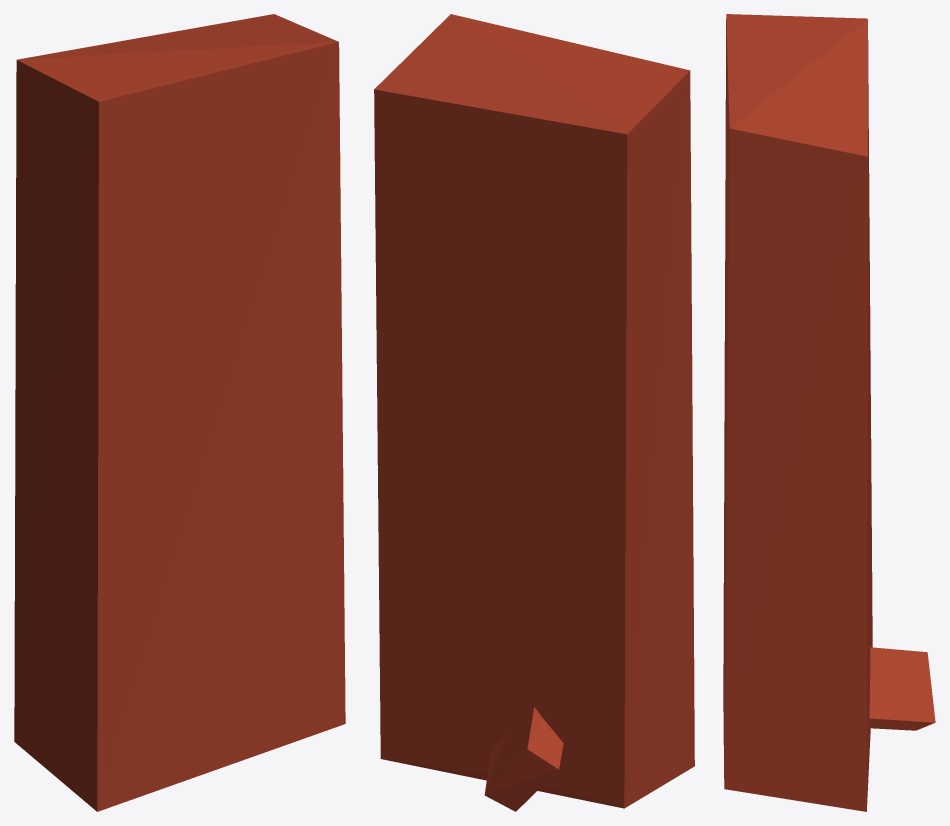
3 renders of one model, left to right at view 1: azimuth 30°, elevation 25°; view 2: azimuth 150°, elevation 25°; view 3: azimuth 270°, elevation 25°, orthographic. The views are drawn at different scales.
Parts seen in each view (by area): view 1: 959_Cube.3880; view 2: 959_Cube.3880; view 3: 959_Cube.3880.
Part boxes in pixels (bbox=[...]): 959_Cube.3880: bbox=[14, 14, 345, 811]; 959_Cube.3880: bbox=[374, 14, 694, 811]; 959_Cube.3880: bbox=[723, 14, 935, 811].
Size of the model in its own units: 4.7 by 12.35 by 3.47.
